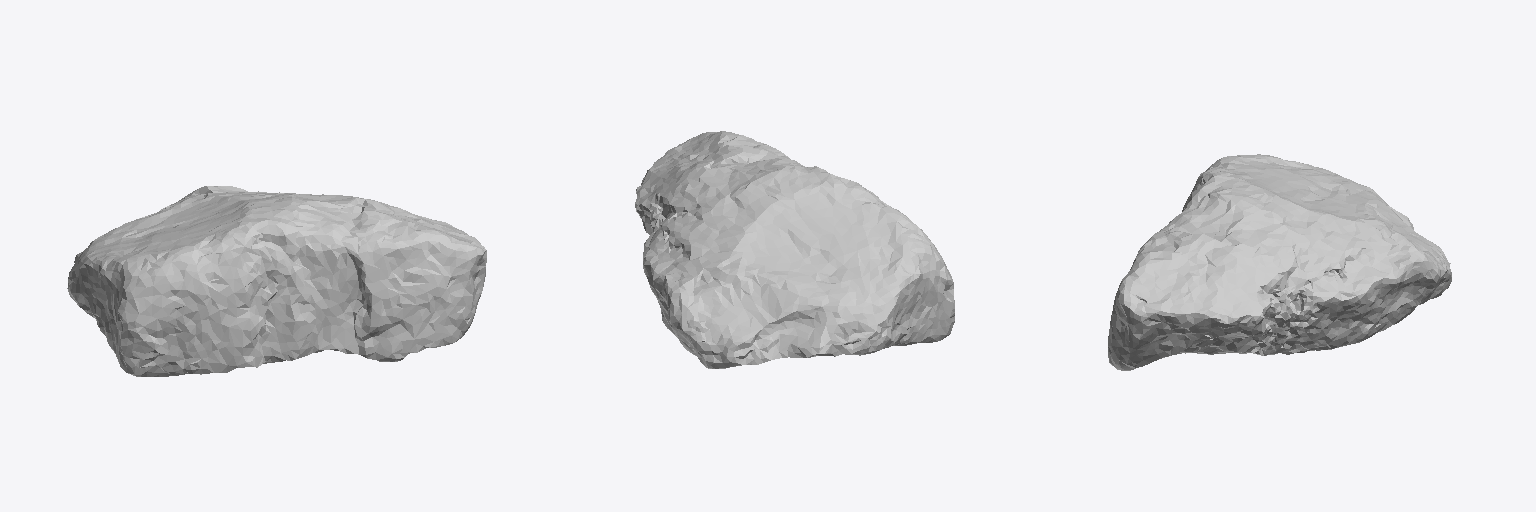
The model's file is rock7.obj.
3 renders of one model, left to right at view 1: azimuth 30°, elevation 25°; view 2: azimuth 150°, elevation 25°; view 3: azimuth 270°, elevation 25°, orthographic.
Visible parts, largest first — view 1: moss_rock_11; view 2: moss_rock_11; view 3: moss_rock_11.
Part boxes in pixels (x1,y1,x2,y2): moss_rock_11: (67,186,486,376); moss_rock_11: (635,131,954,368); moss_rock_11: (1108,154,1451,370).
Bounding box in the file's own units: 1.95 × 0.7685 × 1.8.